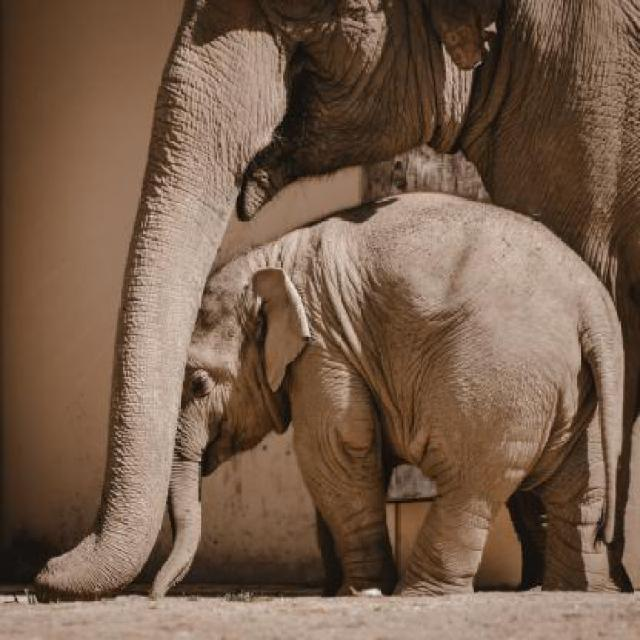Elephant: (147, 184, 638, 638)
